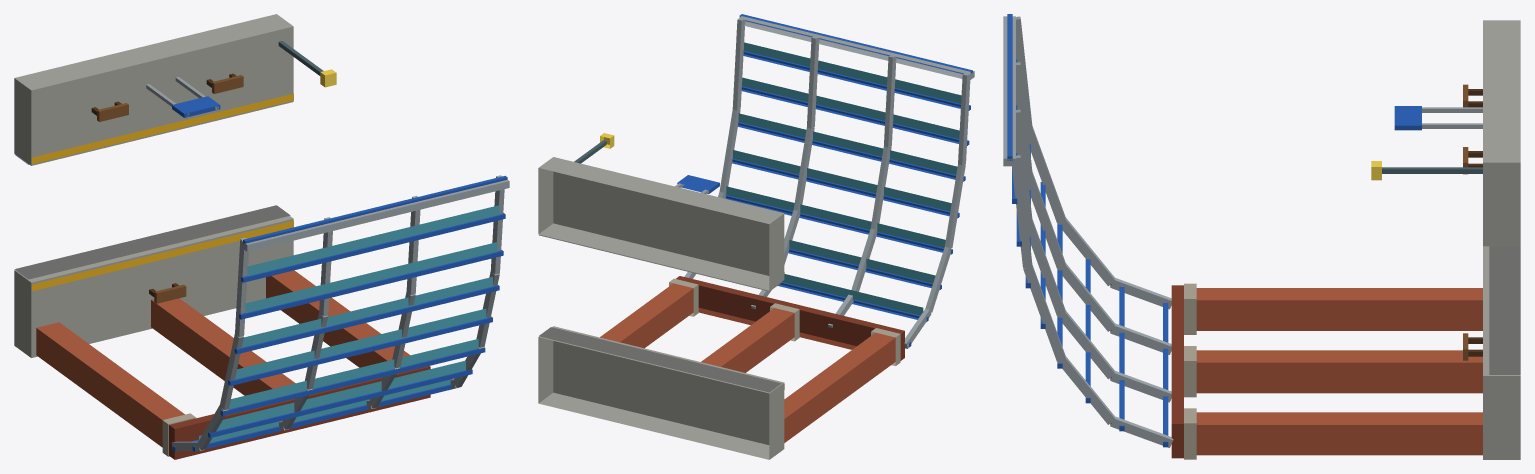
The picture shows the model from 3 angles, left to right: view 1: azimuth 30°, elevation 25°; view 2: azimuth 150°, elevation 25°; view 3: azimuth 270°, elevation 25°; orthographic projection. The views are drawn at different scales.
Parts seen in each view (by area): view 1: station_rail_roof_a_default; view 2: station_rail_roof_a_default; view 3: station_rail_roof_a_default.
Boxes of the visible parts, bbox=[...] form: station_rail_roof_a_default: bbox=[14, 14, 509, 459]; station_rail_roof_a_default: bbox=[538, 14, 974, 459]; station_rail_roof_a_default: bbox=[1003, 14, 1520, 459].
Size of the model in its own units: 16 by 15.98 by 24.6.
